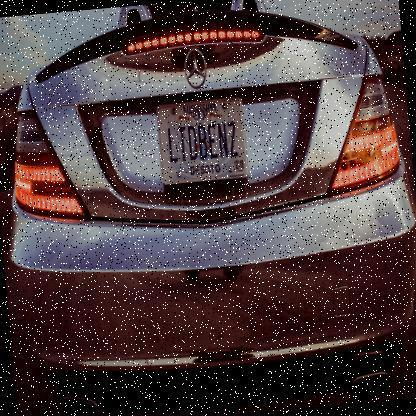License-Plate: (152, 89, 257, 200)
